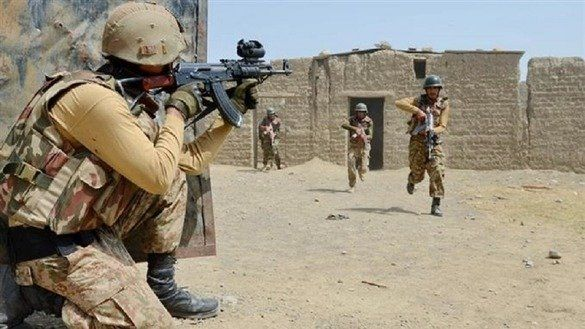gun: (105, 33, 318, 112), (407, 101, 442, 163)
uniform: (2, 1, 243, 315), (392, 73, 460, 217), (249, 105, 297, 174), (345, 99, 375, 196)
